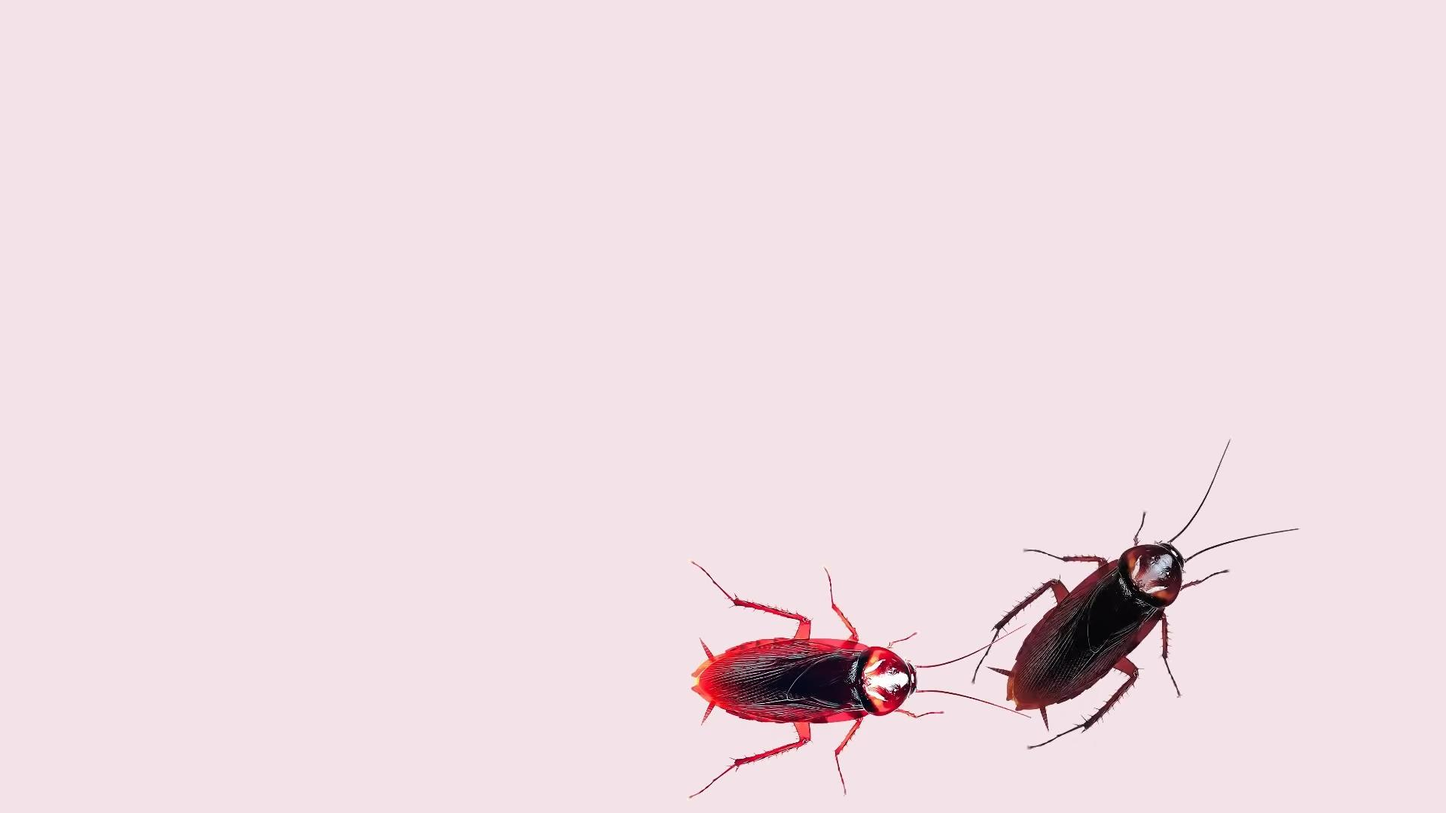cockroach: (985, 468, 1270, 753), (659, 545, 974, 801)
